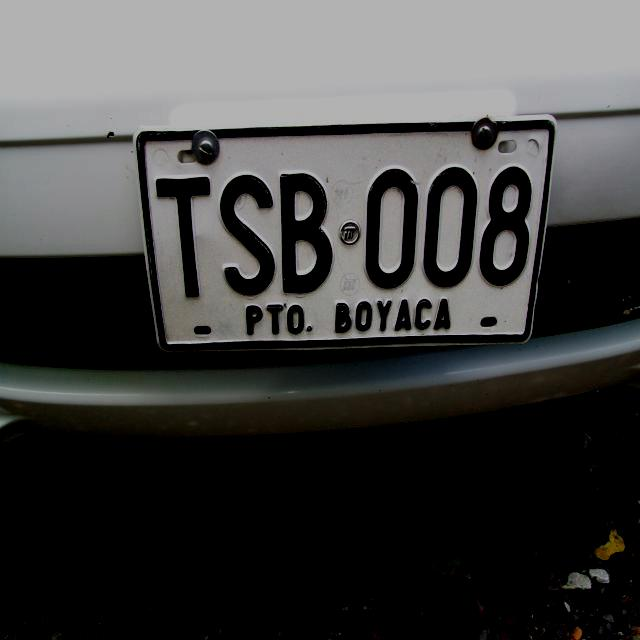placa: (131, 101, 558, 357)
